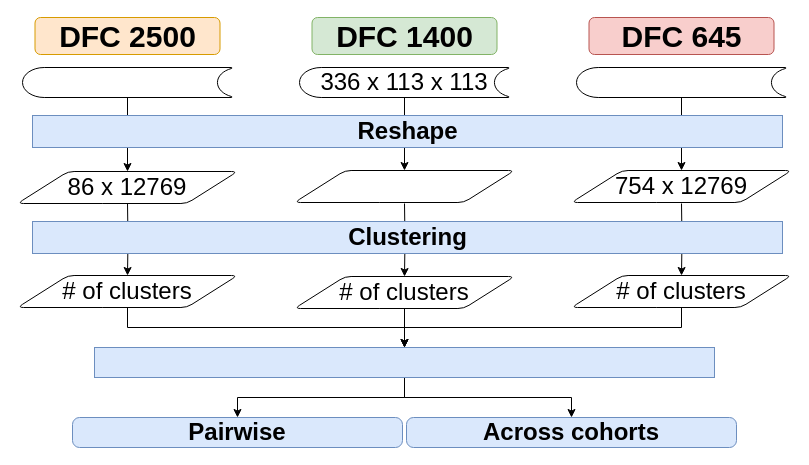
This 809x465 diagram has some shape labels left out. The shapes that lost their labels are listed below. From the top down, each one's centre as x and y in pixels, then its label:
the point at 127,82: 86 x 113 x 113
the point at 681,82: 754 x 113 x 113
the point at 404,186: 336 x 12769
the point at 404,362: Statistical Analysis
